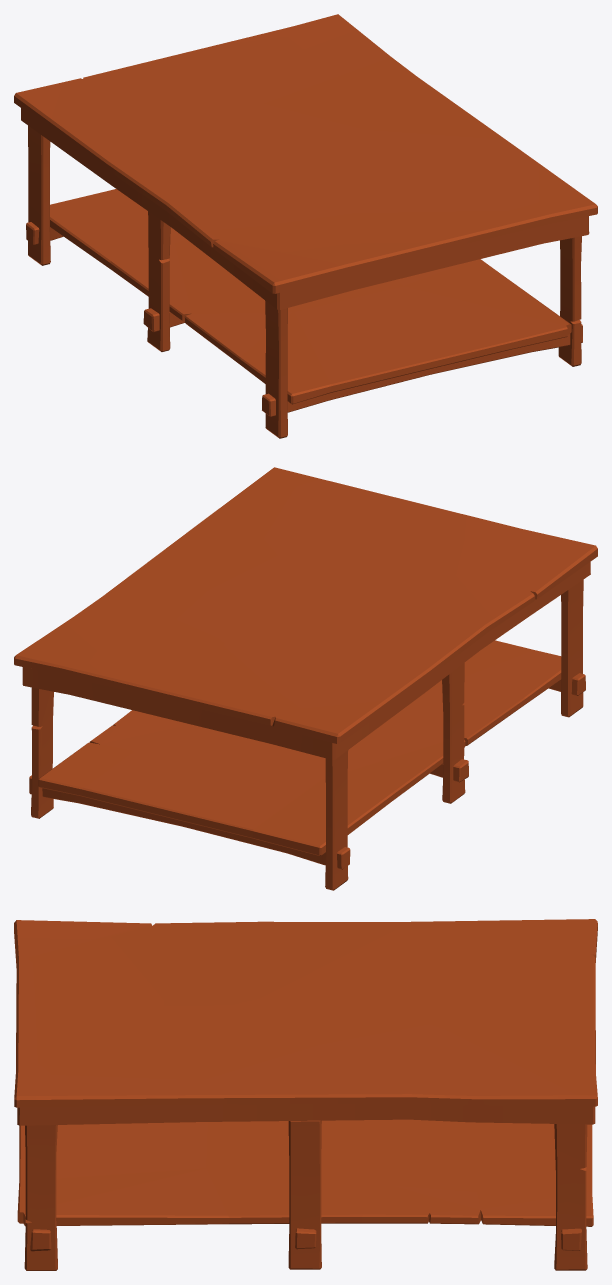
Rendered from Model_Table_Main.FBX.
3 views of the same model, one above another, from view 1: azimuth 30°, elevation 25°; view 2: azimuth 150°, elevation 25°; view 3: azimuth 270°, elevation 25° (orthographic). The views are drawn at different scales.
Parts seen in each view (by area): view 1: Table_Stylised_Main; view 2: Table_Stylised_Main; view 3: Table_Stylised_Main.
Part boxes in pixels (bbox=[...]): Table_Stylised_Main: bbox=[14, 14, 597, 438]; Table_Stylised_Main: bbox=[14, 467, 597, 890]; Table_Stylised_Main: bbox=[14, 919, 597, 1270].
Size of the model in its own units: 253 by 120 by 350.
